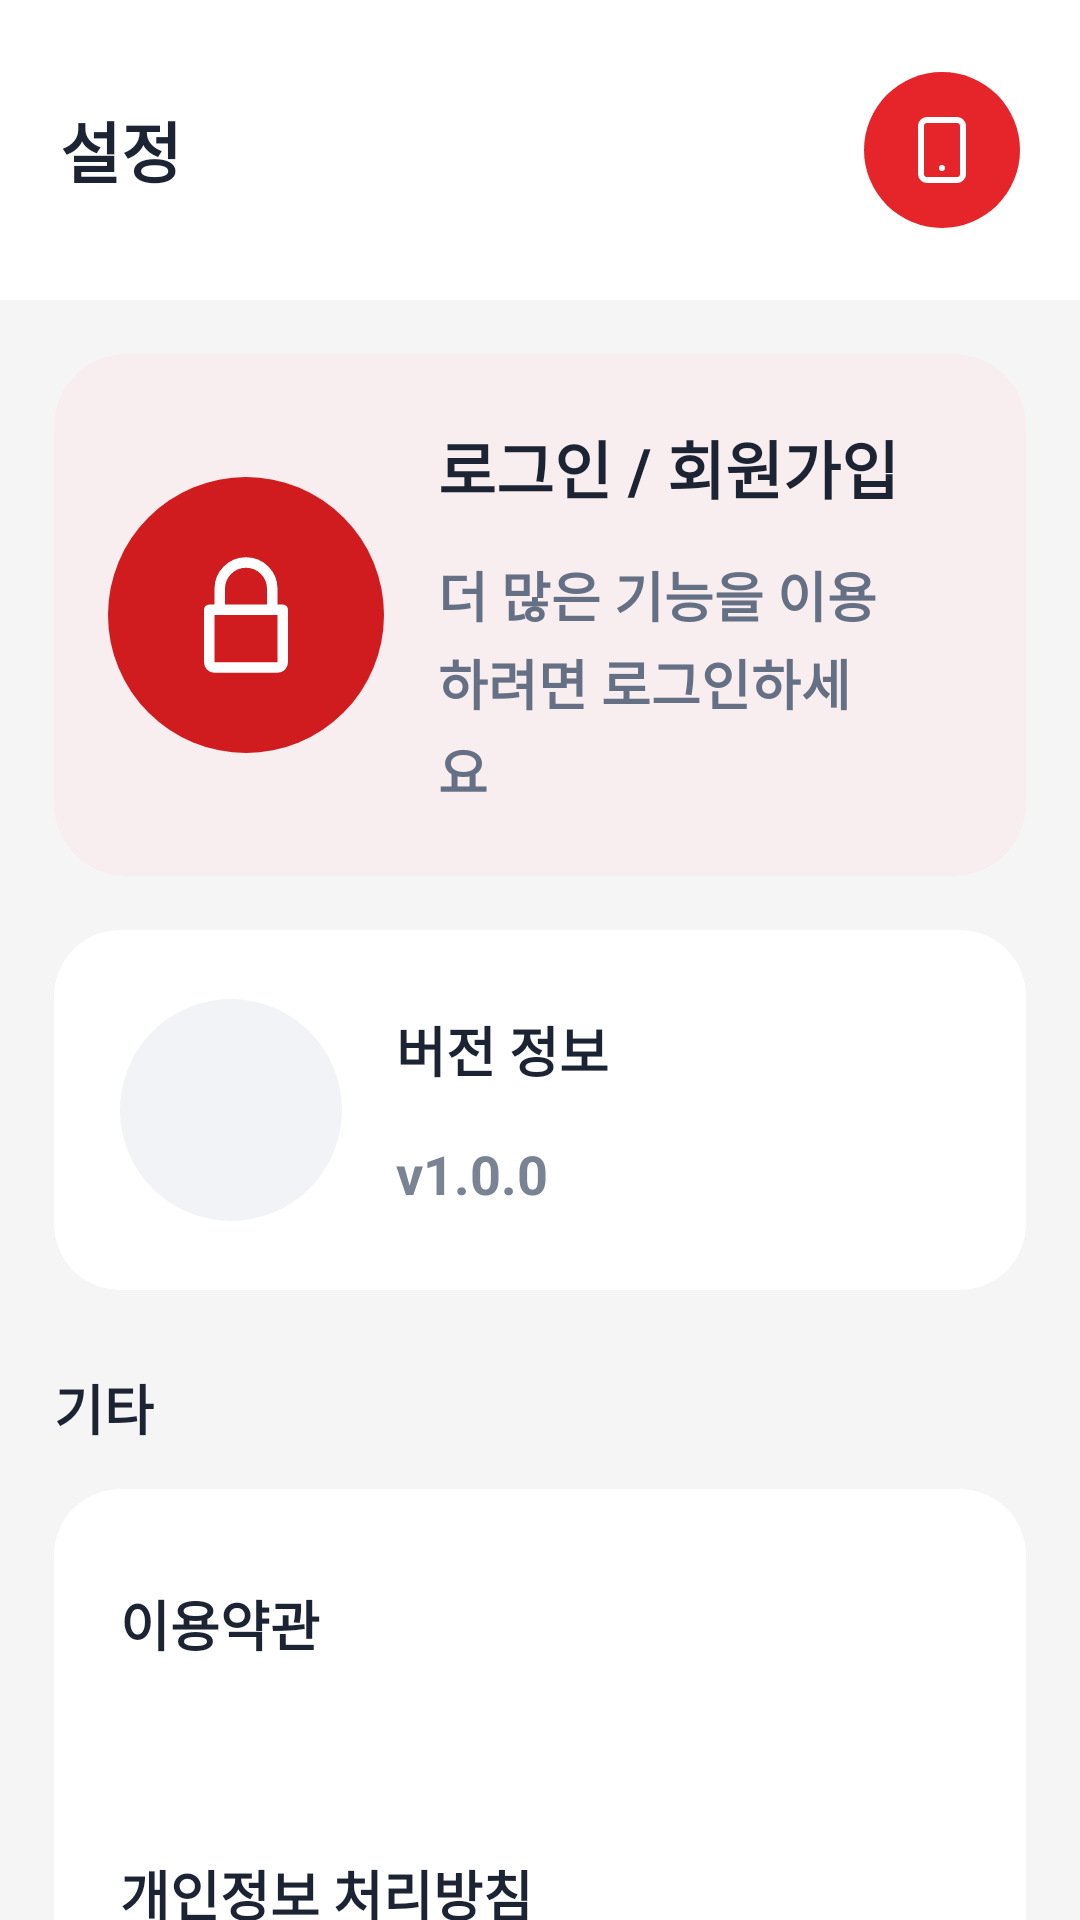

Locate icon controls on the screen. Image size 1080 × 1920, boxes as (x1, y1, x2, y2).
lock: (204, 557, 288, 673)
smartphone: (864, 72, 1020, 228)
